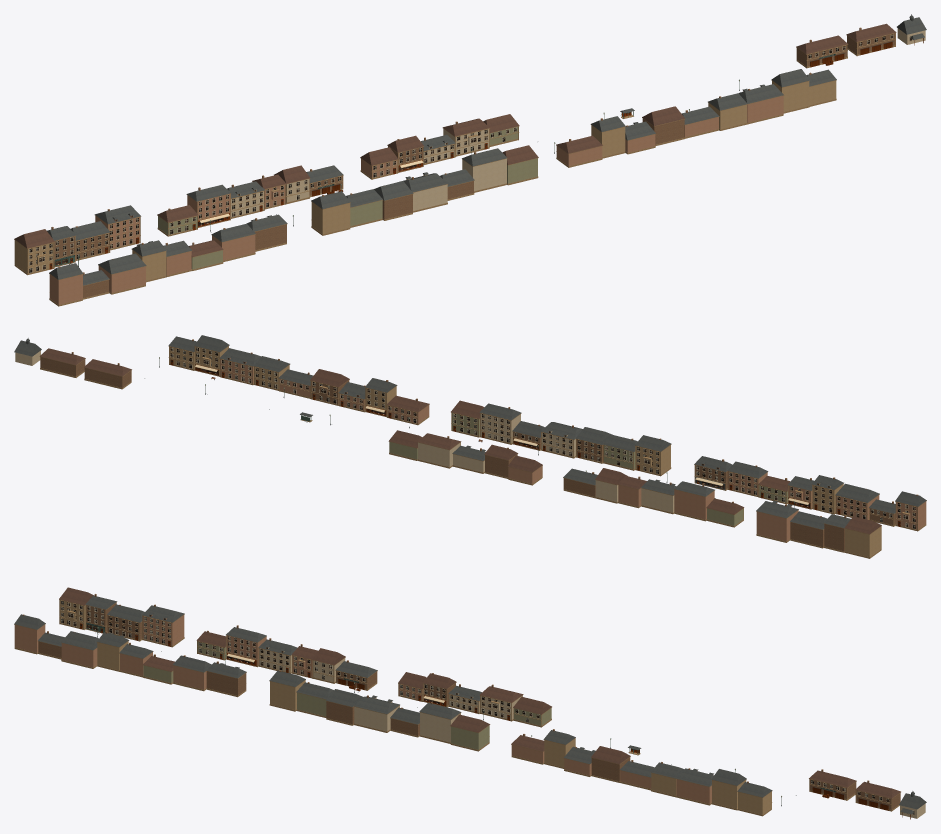
File: bstr.glb
3 views of the same model, one above another, from view 1: azimuth 30°, elevation 25°; view 2: azimuth 150°, elevation 25°; view 3: azimuth 330°, elevation 25° (orthographic). The views are drawn at different scales.
Parts seen in each view (by area): view 1: Reihe_-1_45, Reihe_1_15, Reihe_1_10, Reihe_-1_40, Reihe_-1_42, Reihe_1_21, Reihe_1_02, Reihe_1_23, Reihe_1_12, Reihe_-1_32, Bahn_31, Reihe_1_01 (+30 smaller); view 2: Reihe_-1_42, Reihe_-1_45, Reihe_1_10, Reihe_1_15, Reihe_-1_40, Reihe_1_21, Reihe_1_12, Reihe_-1_32, Reihe_1_23, Reihe_1_02, Reihe_-1_43, Bahn_31 (+30 smaller); view 3: Reihe_-1_42, Reihe_1_12, Reihe_-1_40, Reihe_1_10, Reihe_1_09, Reihe_1_21, Reihe_1_16, Reihe_1_02, Reihe_-1_43, Reihe_-1_32, Reihe_1_15, Reihe_-1_45 (+30 smaller).
Part boxes in pixels (left/top/right/bottom): Reihe_-1_45: left=14, top=229, right=54, bottom=275; Reihe_1_15: left=311, top=191, right=350, bottom=235; Reihe_1_10: left=462, top=148, right=507, bottom=192; Reihe_-1_40: left=186, top=184, right=231, bottom=227; Reihe_-1_42: left=94, top=205, right=141, bottom=250; Reihe_1_21: left=98, top=253, right=146, bottom=294; Reihe_1_02: left=738, top=84, right=784, bottom=124; Reihe_1_23: left=49, top=263, right=83, bottom=306; Reihe_1_12: left=399, top=172, right=447, bottom=212; Reihe_-1_32: left=442, top=118, right=489, bottom=156; Bahn_31: left=796, top=35, right=848, bottom=68; Reihe_1_01: left=771, top=69, right=809, bottom=113; Reihe_-1_42: left=756, top=500, right=798, bottom=542; Reihe_-1_45: left=844, top=516, right=881, bottom=558; Reihe_1_10: left=479, top=403, right=521, bottom=444; Reihe_1_15: left=635, top=435, right=671, bottom=476; Reihe_-1_40: left=674, top=481, right=714, bottom=521; Reihe_1_21: left=835, top=483, right=879, bottom=519; Reihe_1_12: left=540, top=422, right=582, bottom=458; Reihe_-1_32: left=417, top=433, right=461, bottom=468; Reihe_1_23: left=895, top=491, right=926, bottom=531; Reihe_1_02: left=219, top=348, right=261, bottom=385; Reihe_-1_43: left=790, top=511, right=826, bottom=548; Bahn_31: left=84, top=359, right=131, bottom=389; Reihe_-1_42: left=142, top=604, right=184, bottom=647; Reihe_1_12: left=354, top=695, right=399, bottom=732; Reihe_-1_40: left=226, top=625, right=266, bottom=667; Reihe_1_10: left=419, top=702, right=461, bottom=743; Reihe_1_09: left=450, top=714, right=490, bottom=751; Reihe_1_21: left=61, top=631, right=98, bottom=668; Reihe_1_16: left=206, top=661, right=246, bottom=697; Reihe_1_02: left=676, top=768, right=713, bottom=805; Reihe_-1_43: left=107, top=604, right=144, bottom=641; Reihe_-1_32: left=480, top=684, right=523, bottom=721; Reihe_1_15: left=269, top=670, right=305, bottom=711; Reihe_-1_45: left=59, top=587, right=94, bottom=629.
Bounding box in the file's own units: 451 × 16.7 × 58.01.
Materials: 25 (18 with a texture image).
